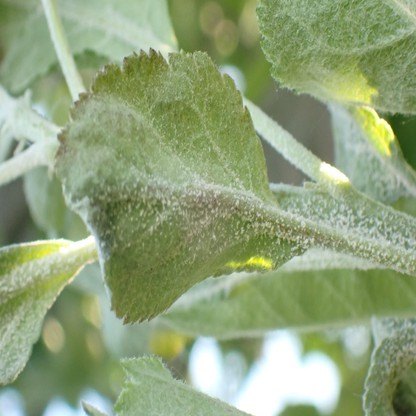powdery_mildew: (53, 47, 309, 327), (255, 1, 416, 113), (1, 238, 73, 388), (81, 358, 252, 416), (328, 104, 416, 196), (362, 316, 415, 416)
